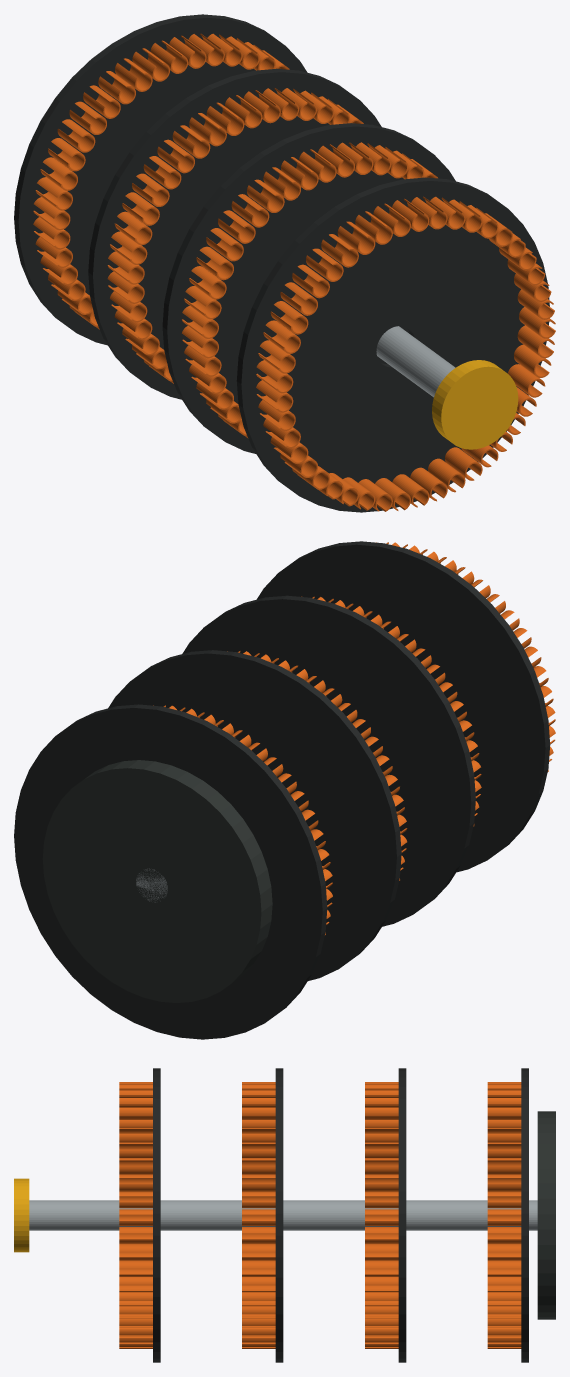
File: drum_f_link.obj
3 renders of one model, top to bottom at view 1: azimuth 30°, elevation 25°; view 2: azimuth 150°, elevation 25°; view 3: azimuth 270°, elevation 25°, orthographic. The views are drawn at different scales.
Parts seen in each view (by area): view 1: tiers_2, pockets_3, cap_4, shaft_1; view 2: tiers_2, hub_0, pockets_3, shaft_1; view 3: pockets_3, shaft_1, tiers_2, hub_0, cap_4.
Boxes of the visible parts, x1,y1,x2,y2 form: tiers_2: (14, 14, 549, 512); pockets_3: (33, 33, 555, 511); cap_4: (432, 360, 518, 449); shaft_1: (376, 326, 455, 397); tiers_2: (14, 541, 550, 1039); hub_0: (42, 760, 272, 1002); pockets_3: (153, 542, 555, 934); shaft_1: (136, 868, 167, 902); pockets_3: (119, 1082, 521, 1348); shaft_1: (29, 1200, 537, 1230); tiers_2: (153, 1068, 528, 1362); hub_0: (537, 1111, 555, 1319); cap_4: (14, 1178, 29, 1252).
Bounding box in the file's own units: 0.96 × 0.9573 × 1.76.
